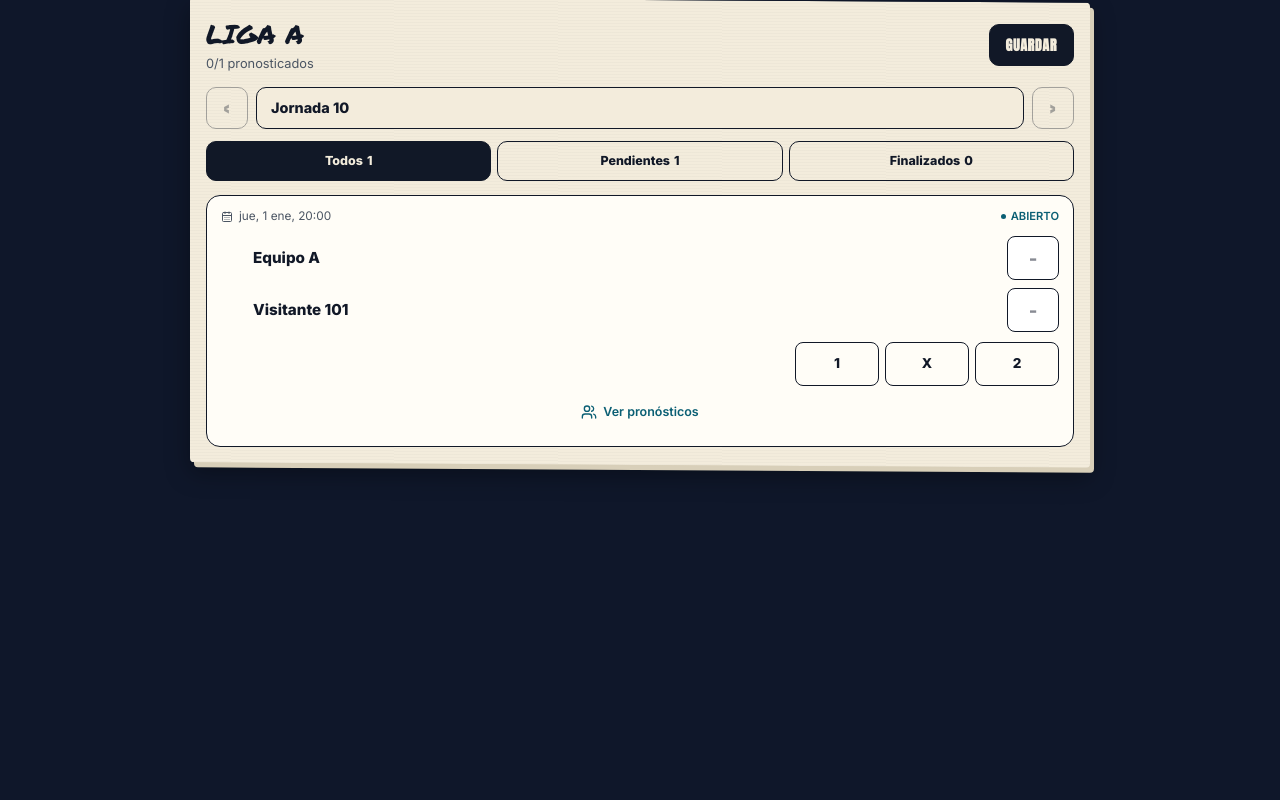
Test: matchday editing and navigation › rejects a partial score instead of sending a stale sign
This screenshot has width=1280, height=800.
In the number field named "Goles de Equipo A": coordinates (1033, 258) left=1007, top=236, right=1059, bottom=280, type "1"
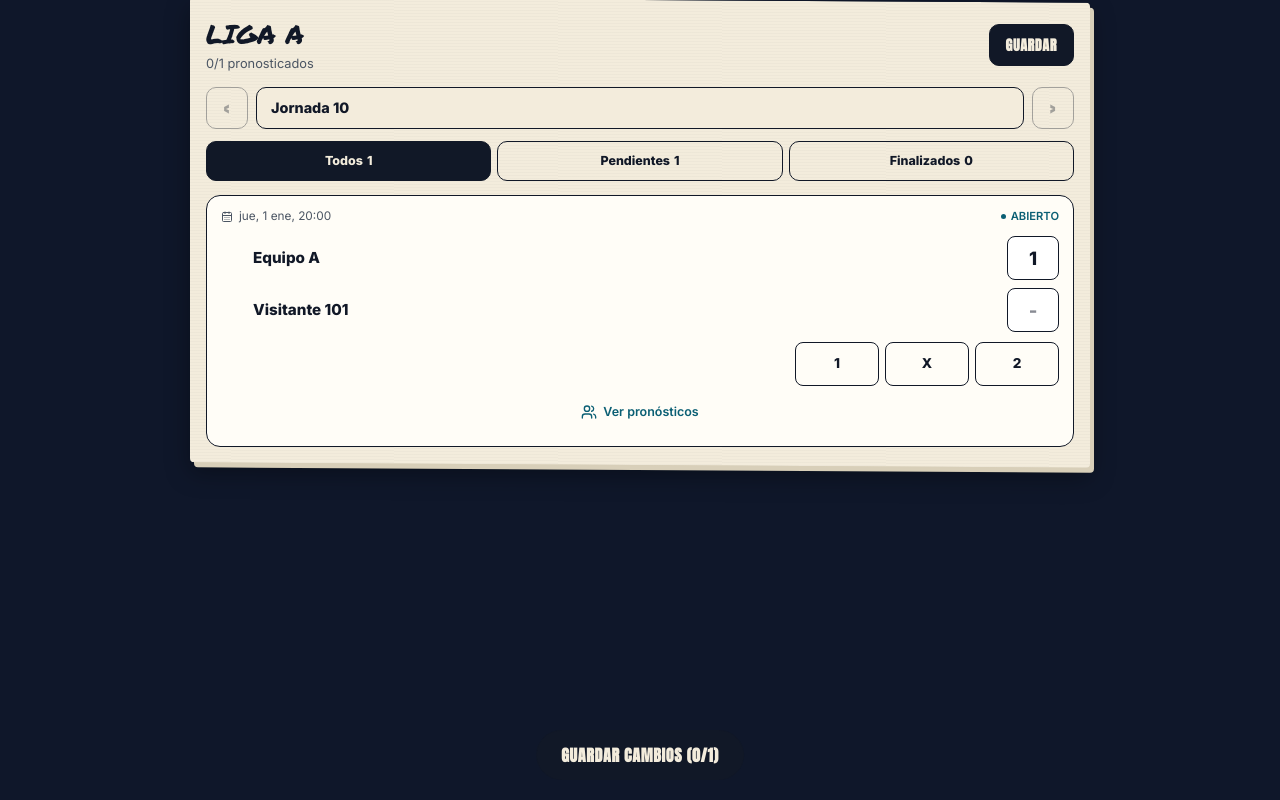
Click the button "Guardar": coordinates (1031, 45) left=988, top=24, right=1074, bottom=66
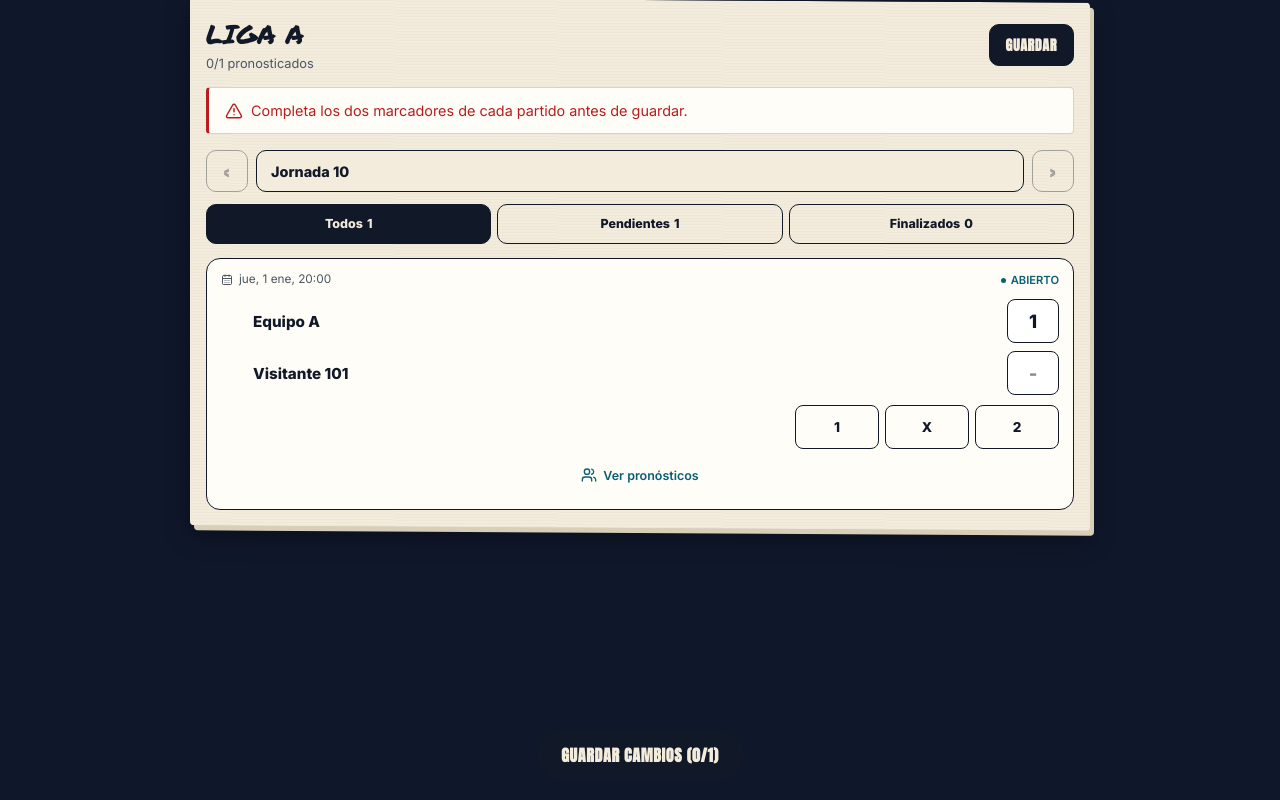
Now the message shows "Completa los dos marcadores", box left=251, top=102, right=688, bottom=119
